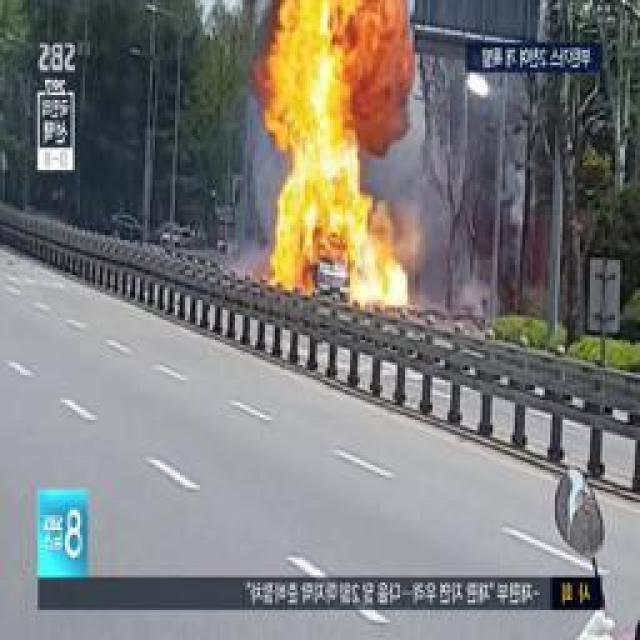Fire: (270, 205, 400, 307), (284, 0, 348, 132), (289, 140, 365, 206)
